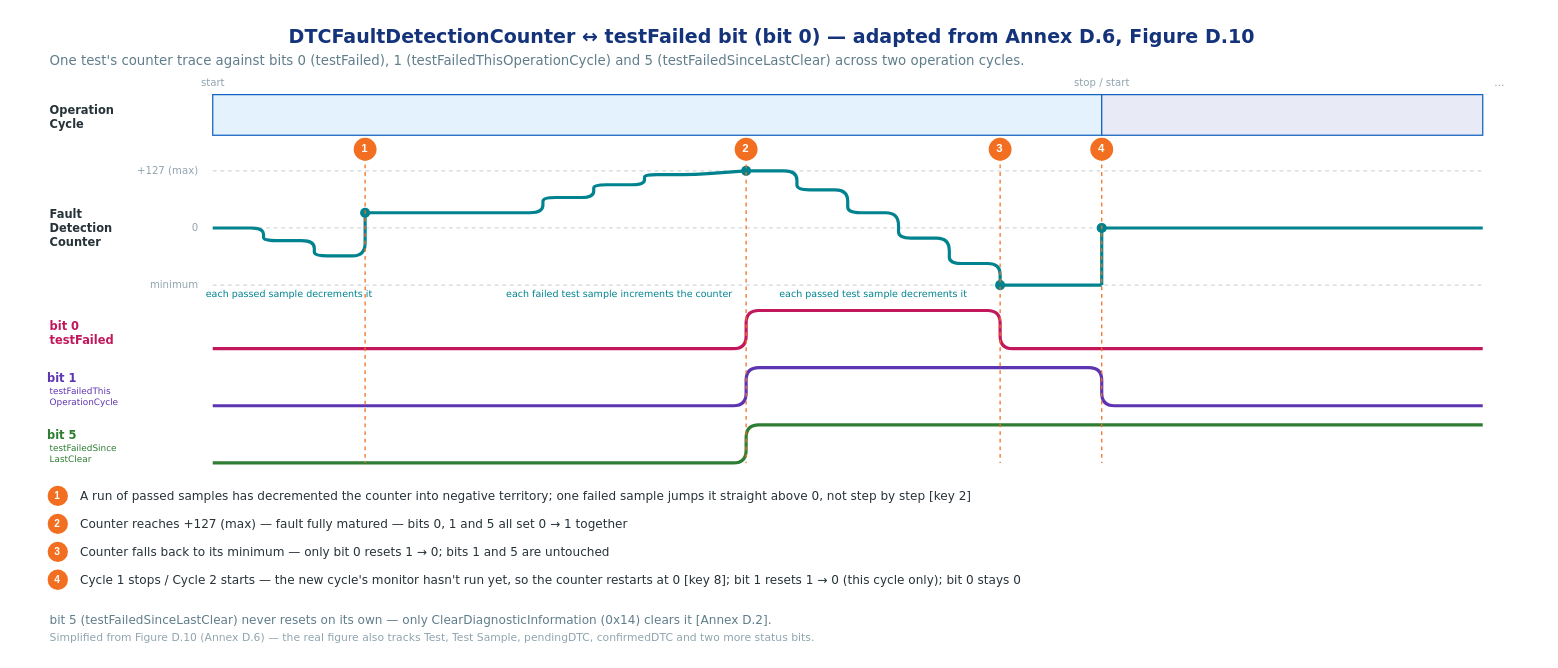
Image size: 1558x668. Some labels were removed from this diagram. The shapes that lost their labels are listed below. From the top down, each one's centre as x and y in pixels, then its label:
At pixel 656 114: "Operation Cycle 1".
At pixel 1291 114: "Operation Cycle 2".
